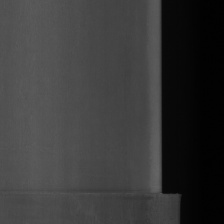welding_line: (0, 181, 187, 205)
